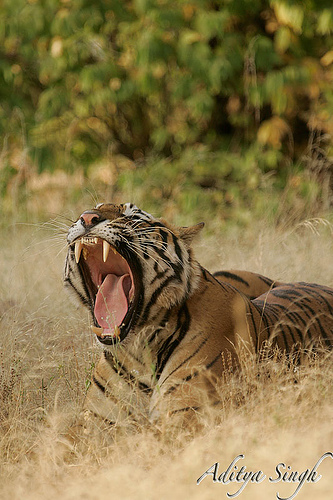Tigre: (57, 183, 307, 413)
